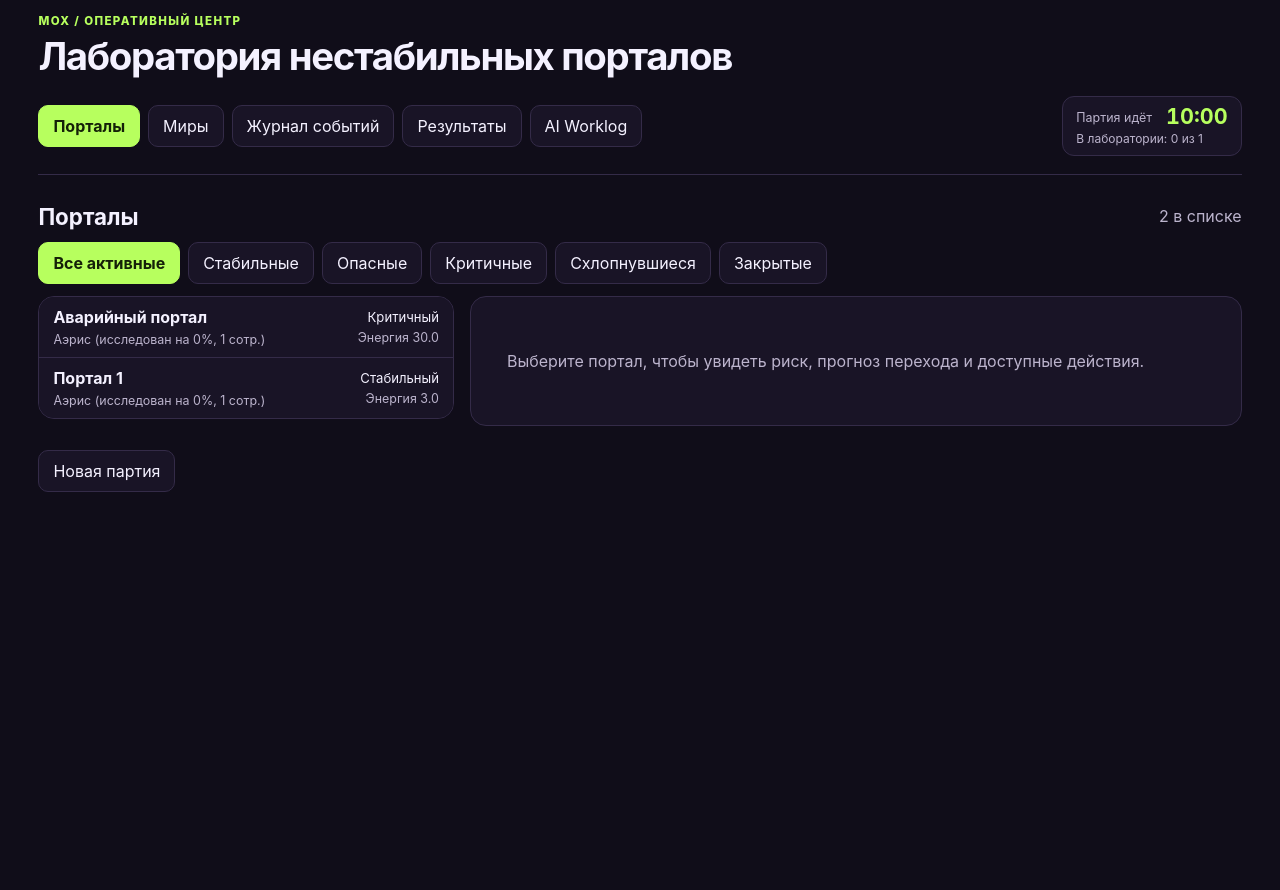
Scenario: App › предлагает критичный портал, если только он может вернуть сотрудников
Click the button "Портал 1" at (88, 378), box 39,358 -> 453,418
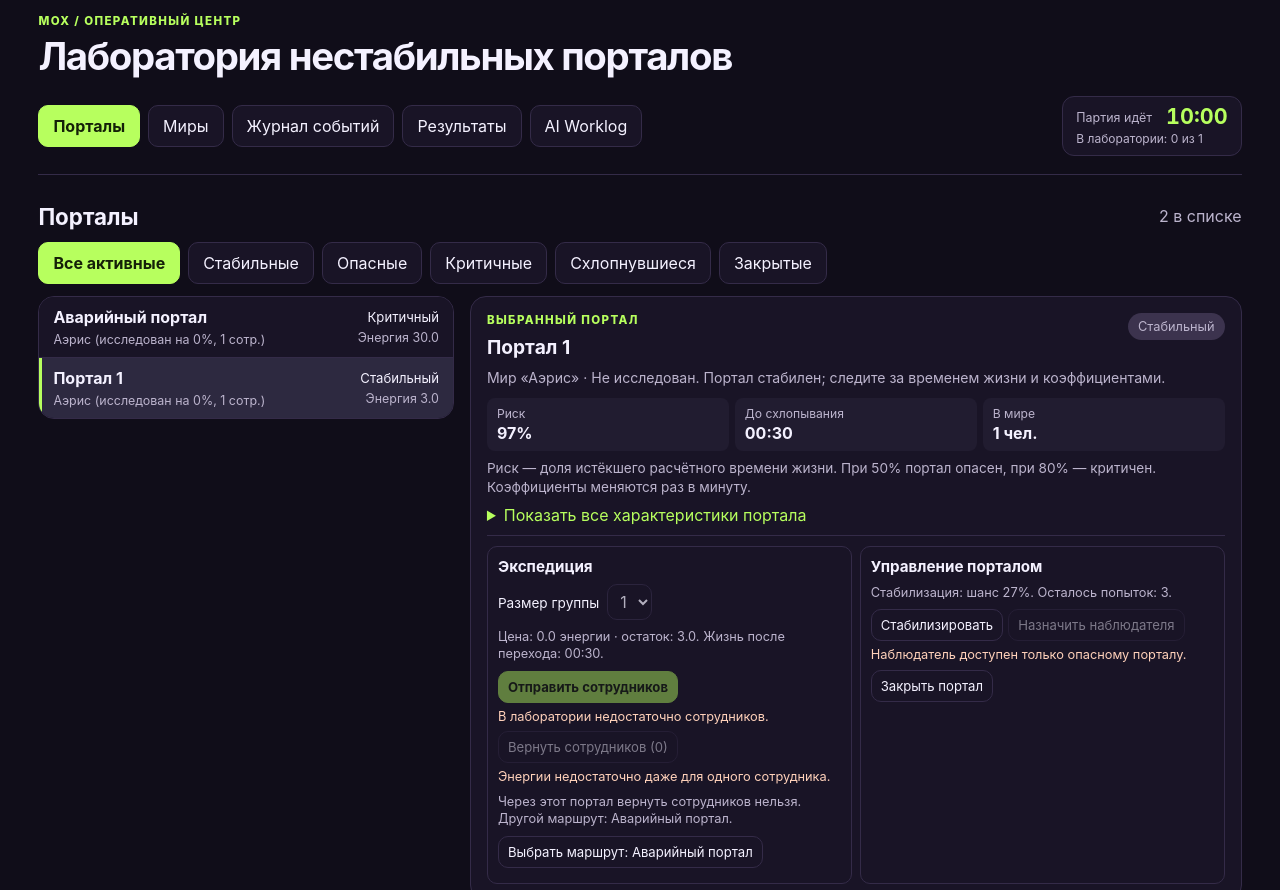
Click the button "Выбрать маршрут: Аварийный портал" at (630, 852), box 498,836 -> 763,868
(page scrolled)
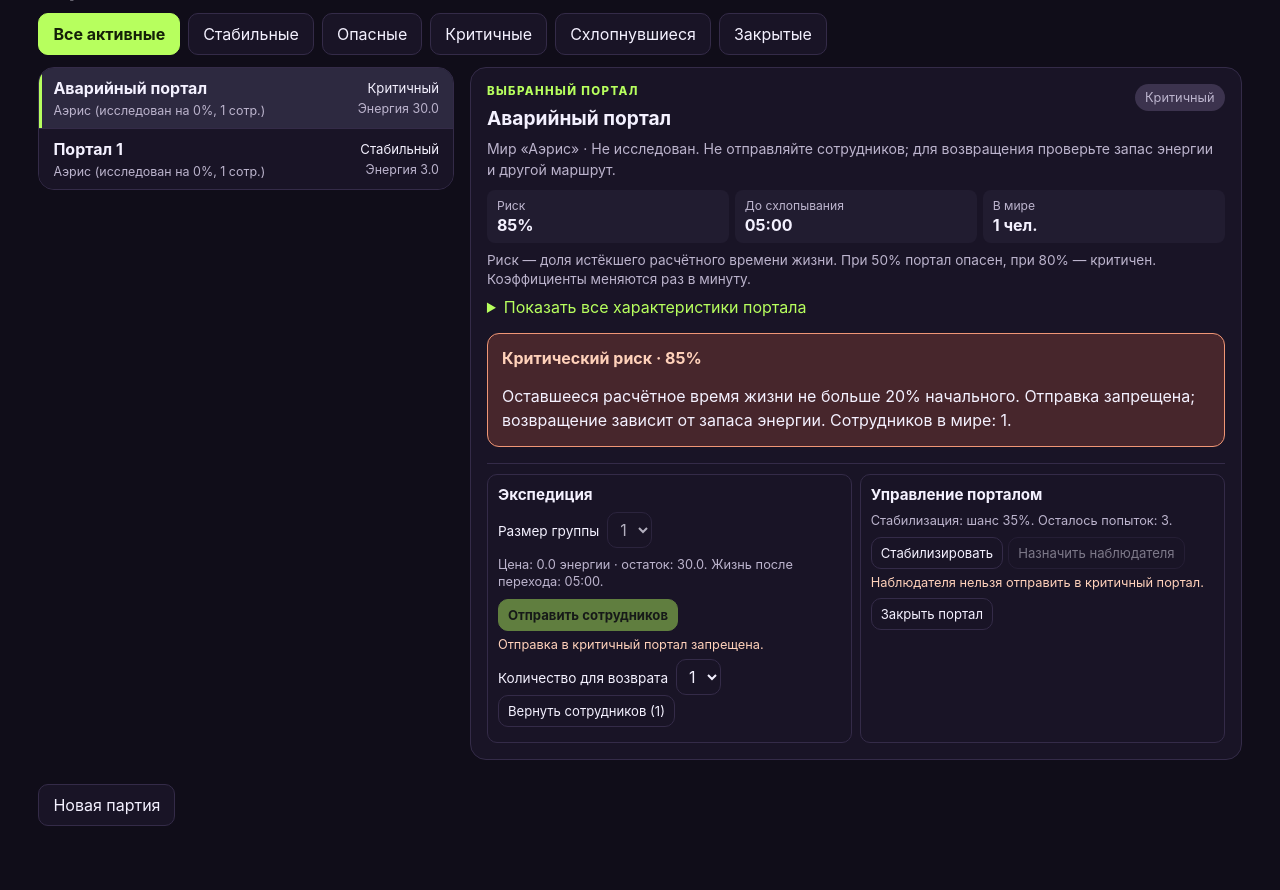
Expected: the button "Вернуть сотрудников (1)" is enabled, 498,695 -> 675,727
